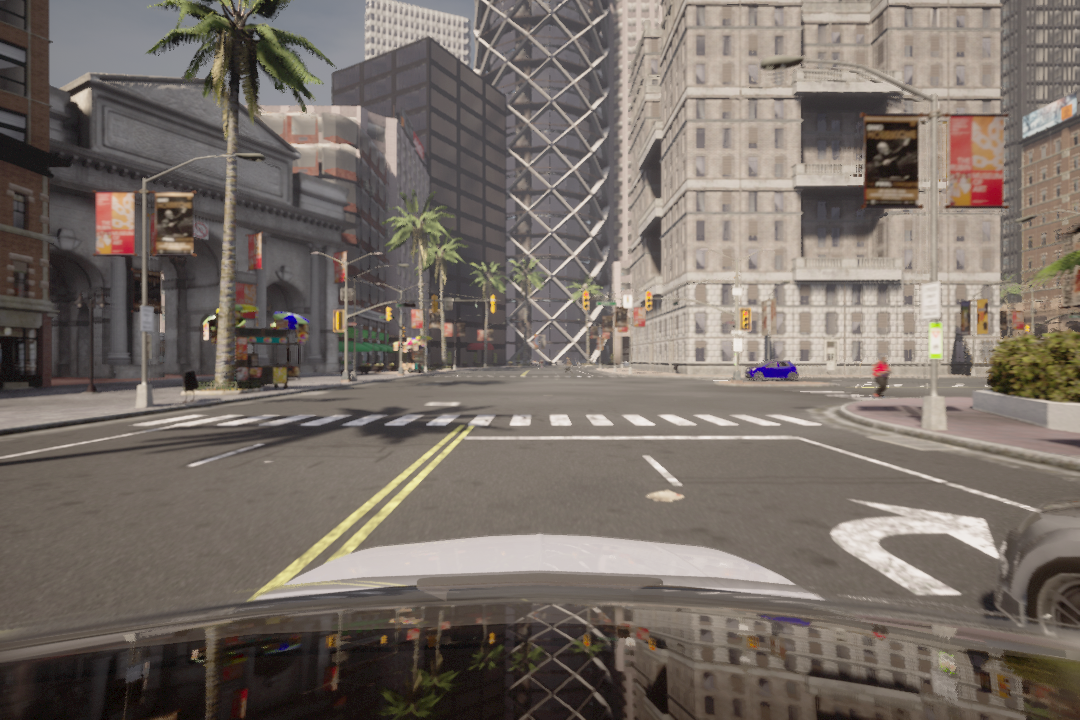RoadSign_right: (817, 484, 1007, 601)
TrafficLight: (741, 309, 752, 331), (581, 291, 593, 311), (645, 290, 653, 313)
TrafficSign: (195, 221, 209, 241)
walkside: (157, 407, 847, 433)
